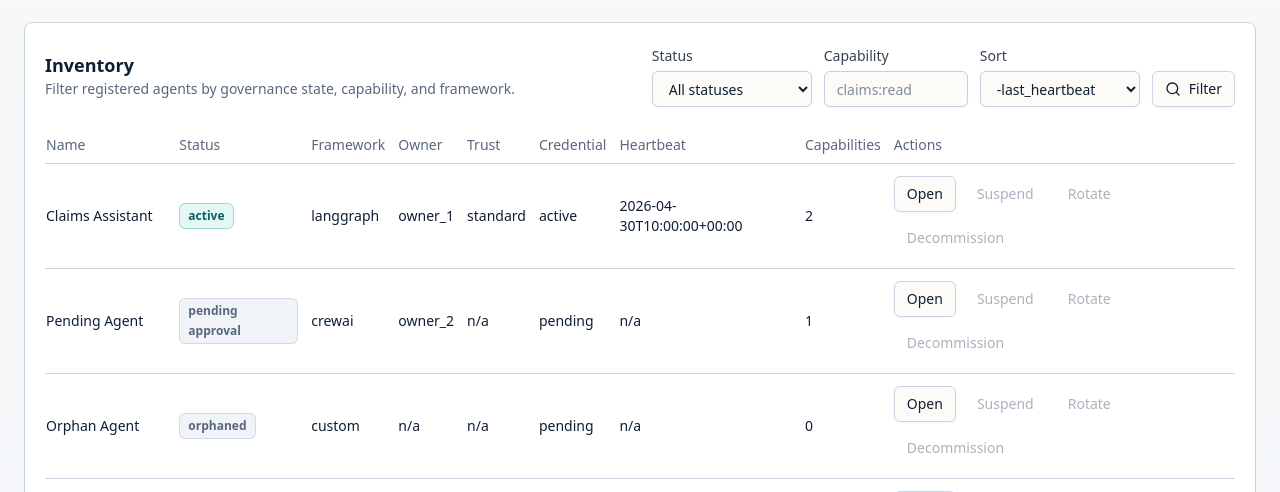
AgentsPage › disables agent write actions for read-only users
(page scrolled)
Expected: the text "Claims Assistant" is shown, [45,164,178,268]
Click the button "Open" in the row of "Claims Assistant" at (925, 194), box [894,176,956,212]
(page scrolled)
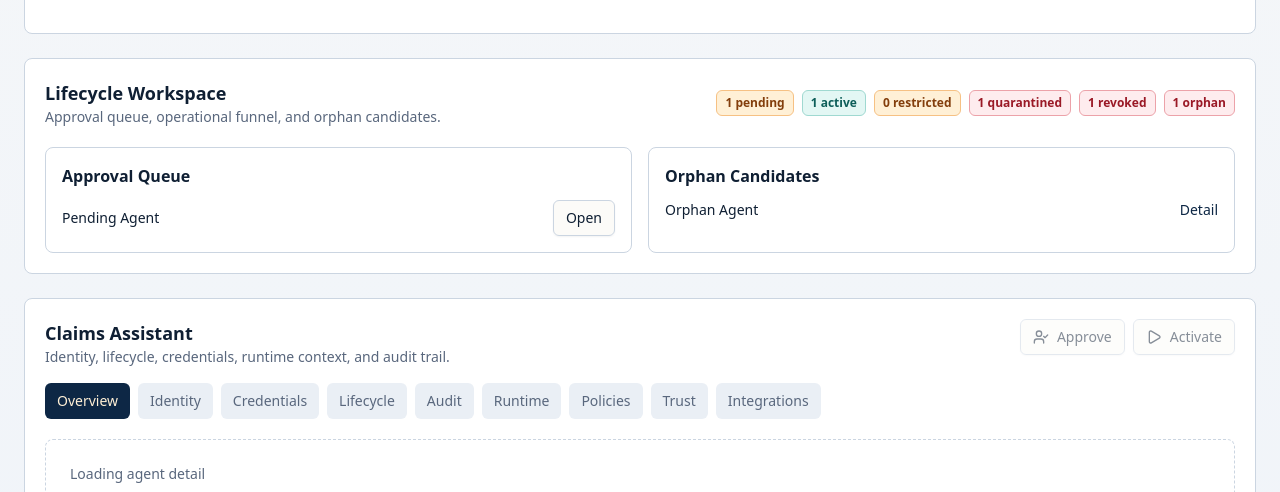
Click the tab "Credentials" at (270, 401), box [221,383,319,419]
(page scrolled)
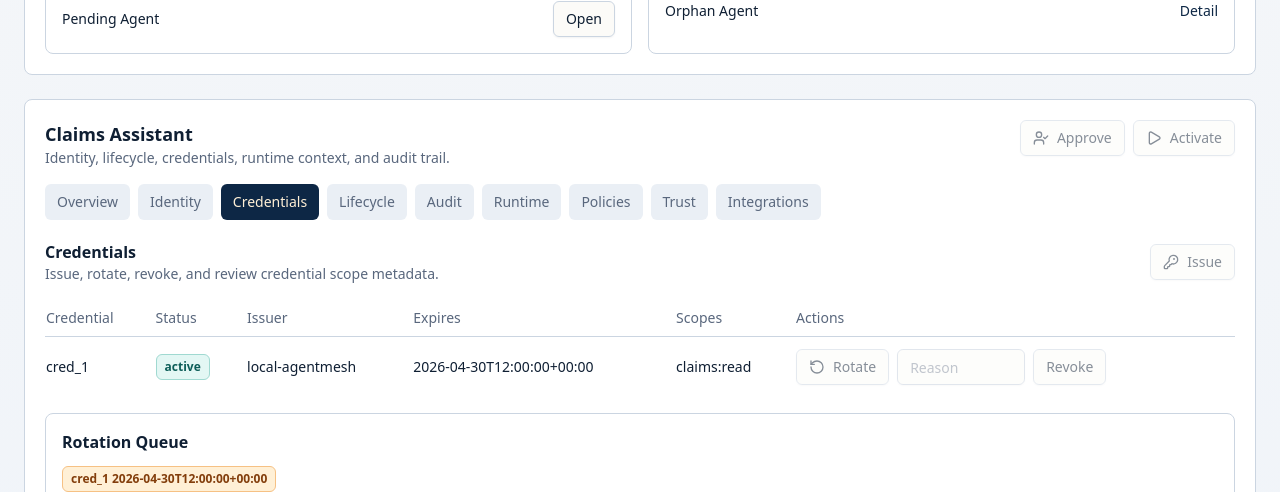
Now the button "Issue" is disabled, box [1150,244,1235,280]
Now the button "Rotate" is disabled, box [796,349,889,385]
Now the button "Revoke" is disabled, box [1033,349,1106,385]
